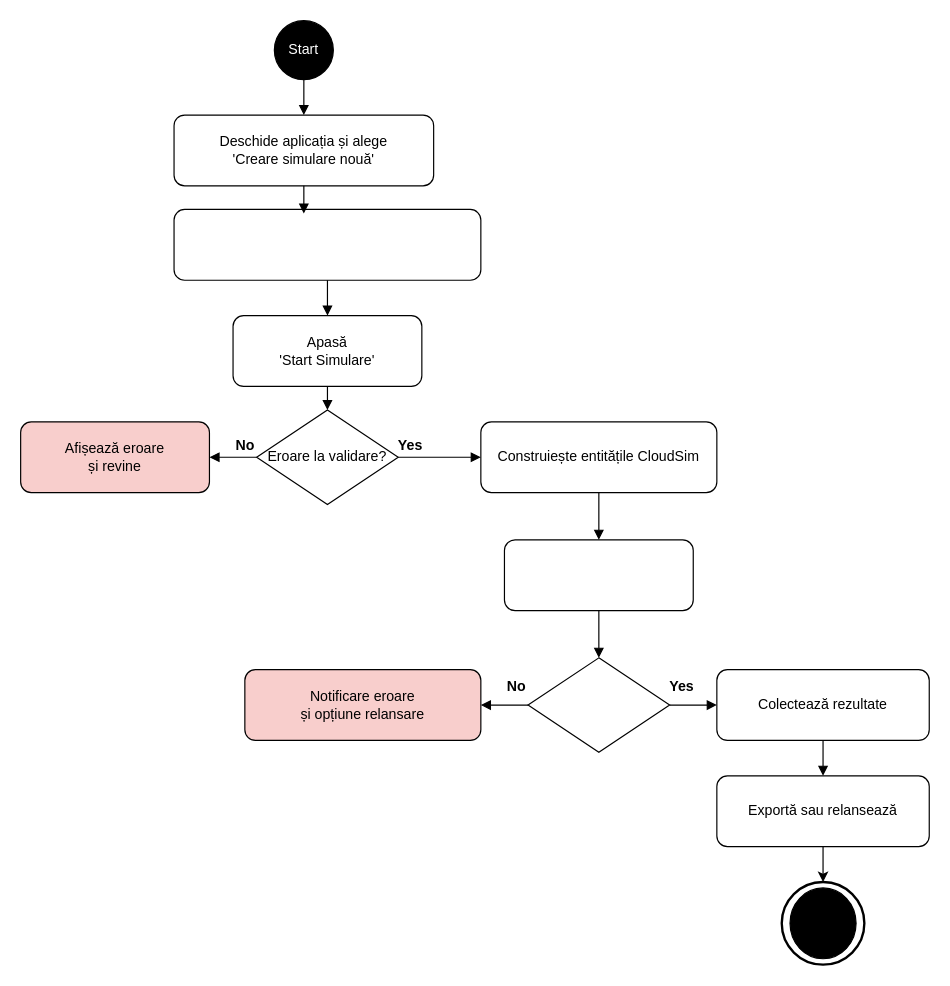
The diagram is 950 pixels wide and 986 high, and some of its shapes have lost their labels. Here are the shapes that lost their labels. From the top down, the box of each, then its label:
(173, 208, 481, 280): Introduce parametri: VM-uri, MIPS, RAM, BW, etc.
(503, 539, 693, 611): Rulează simularea
(527, 657, 670, 752): Eroare execuție?
(789, 887, 856, 959): End
